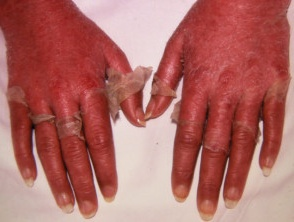SJS-TEN: (0, 0, 160, 167), (149, 0, 293, 154)
